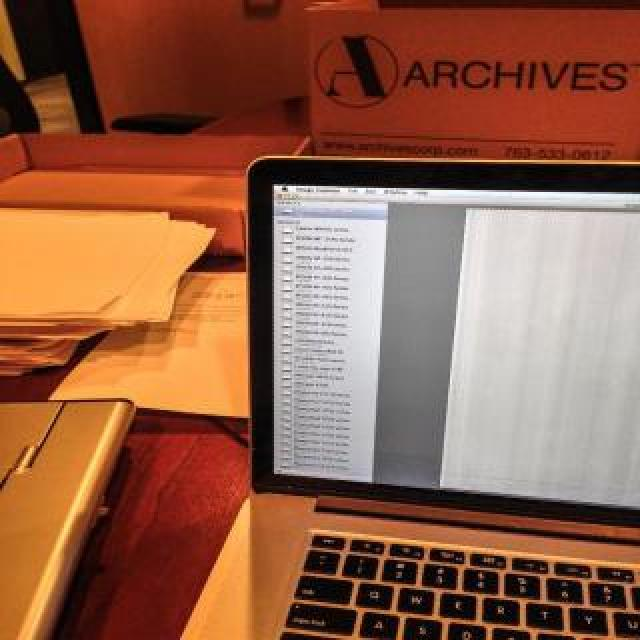laptop_computer: (226, 124, 640, 640)
